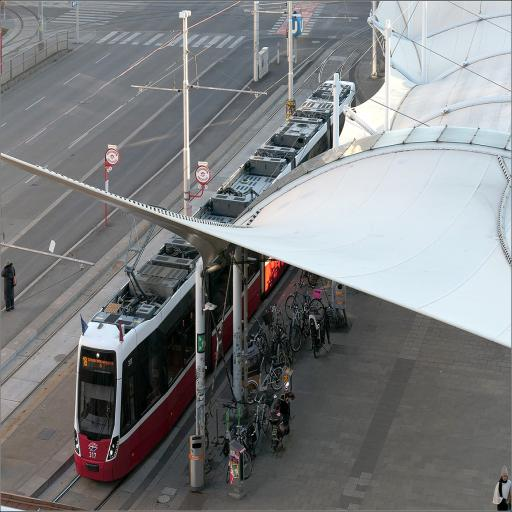Flexity: (74, 81, 356, 486)
